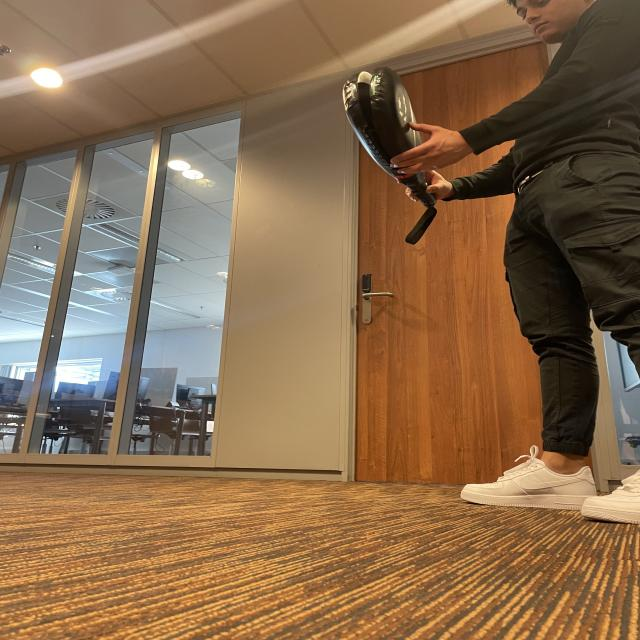paddle: (340, 66, 424, 158)
